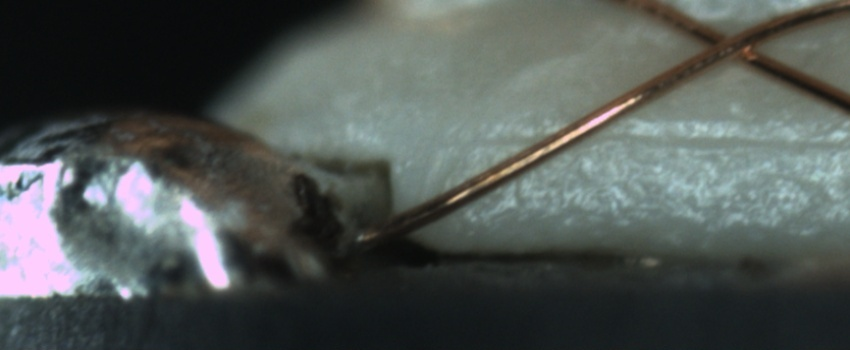CL: (685, 15, 774, 72)
DL: (458, 106, 850, 169)
